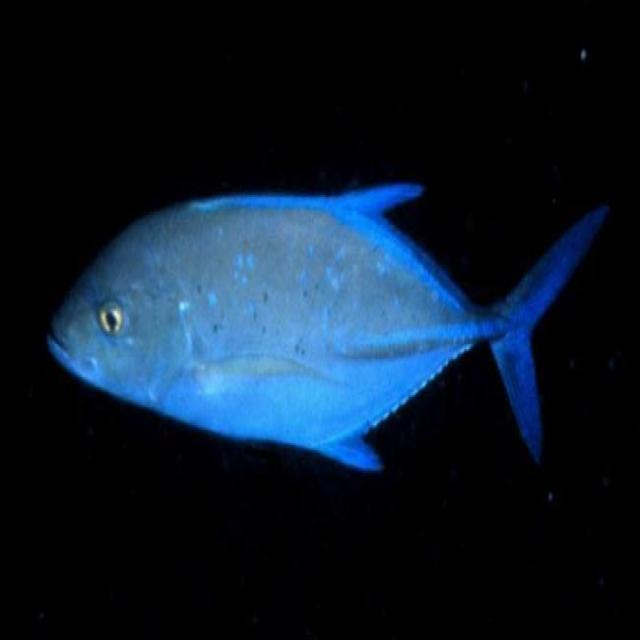ikan: (34, 107, 614, 521)
